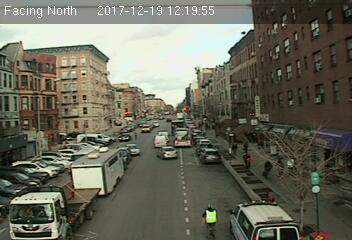bicycle: (202, 201, 221, 240)
car: (199, 147, 220, 163), (157, 145, 178, 160), (124, 143, 141, 156), (153, 134, 170, 146)
pedestrian: (262, 158, 275, 185)
police: (227, 197, 303, 239)
truck: (8, 183, 97, 239), (68, 146, 123, 194), (174, 126, 191, 147)
